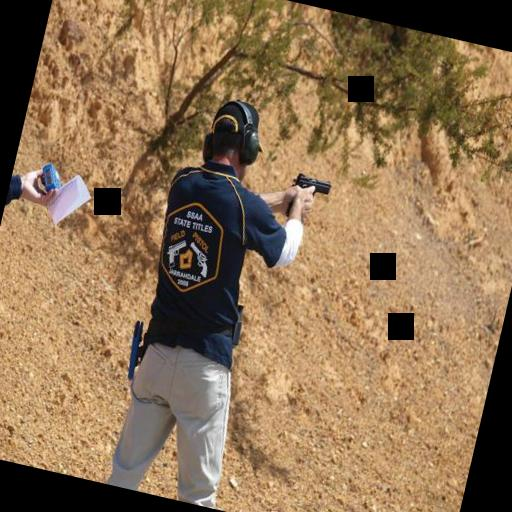Handgun: (282, 168, 334, 226)
